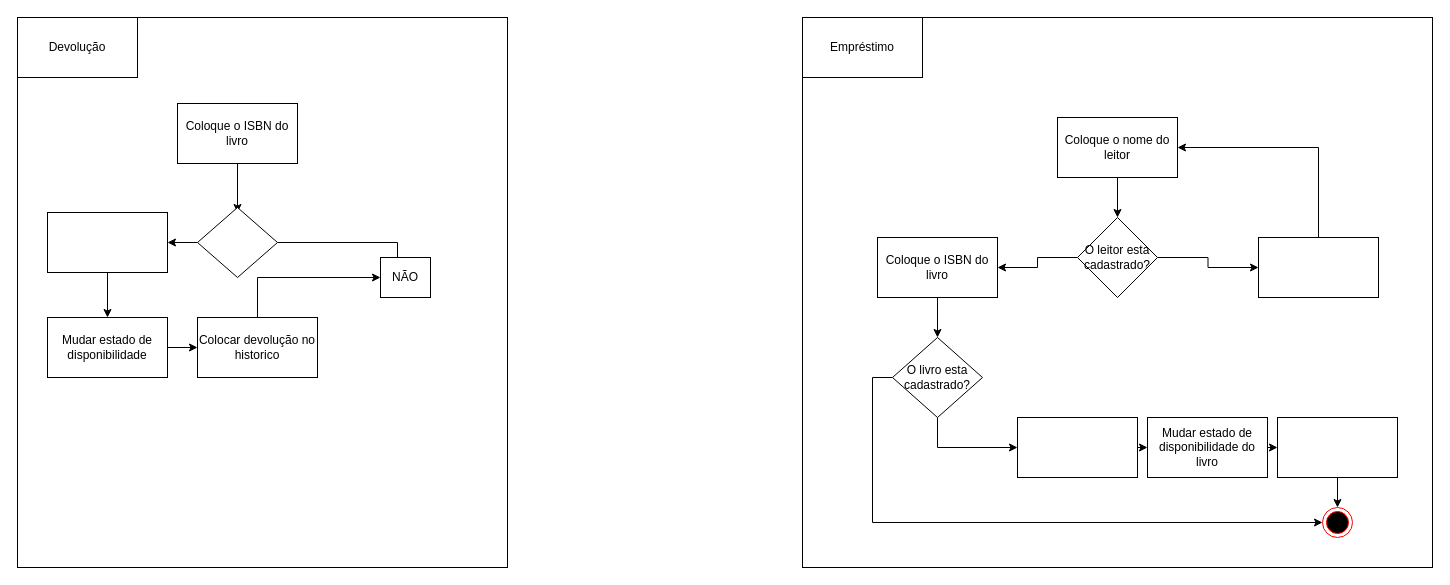
This 1450x585 diagram has some shape labels left out. Each missing label, with the centre of its shape:
"Colocar emprestimo no historico" goes at point 1337,447.
"Fazer devolução" goes at point 107,242.
"Fazer emprestimo" goes at point 1077,447.
"O livro esta emprestado?" goes at point 237,242.
"Registrar leitor" goes at point 1318,267.
